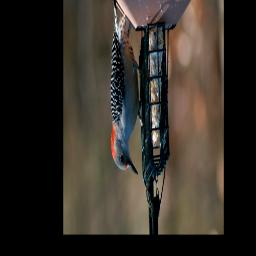Woodpecker: (110, 0, 145, 180)
